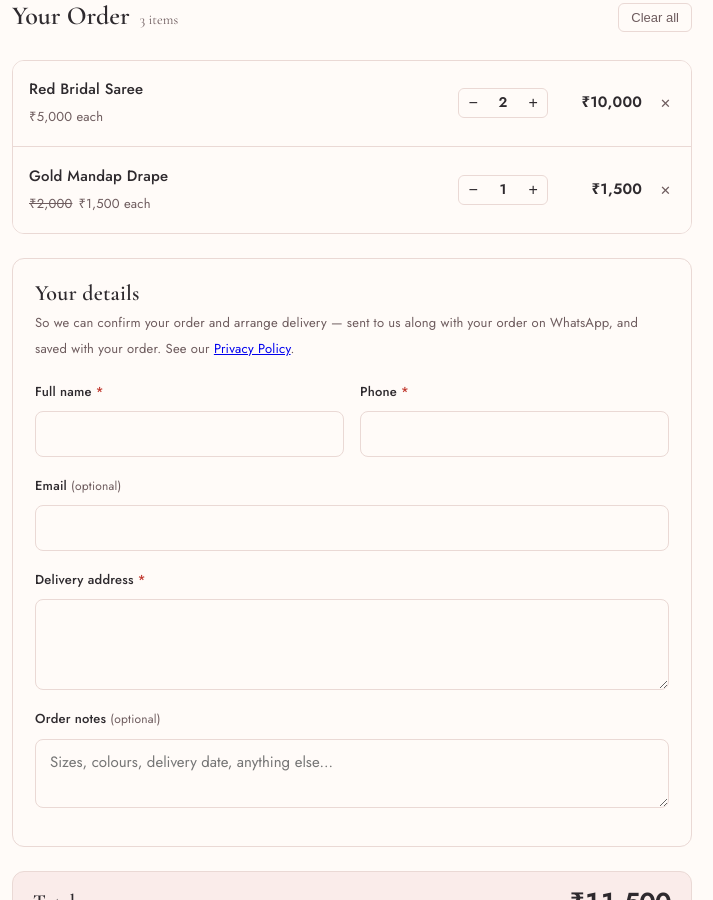
Test case: placing an order › does not open WhatsApp when an item has genuinely gone
The image size is (713, 900).
Expected: the text "Red Bridal Saree" is shown, [29,77,143,102]
Type "Asha Menon" into the field labelled "Full name *" at x=190, y=434, box [35,411,344,457]
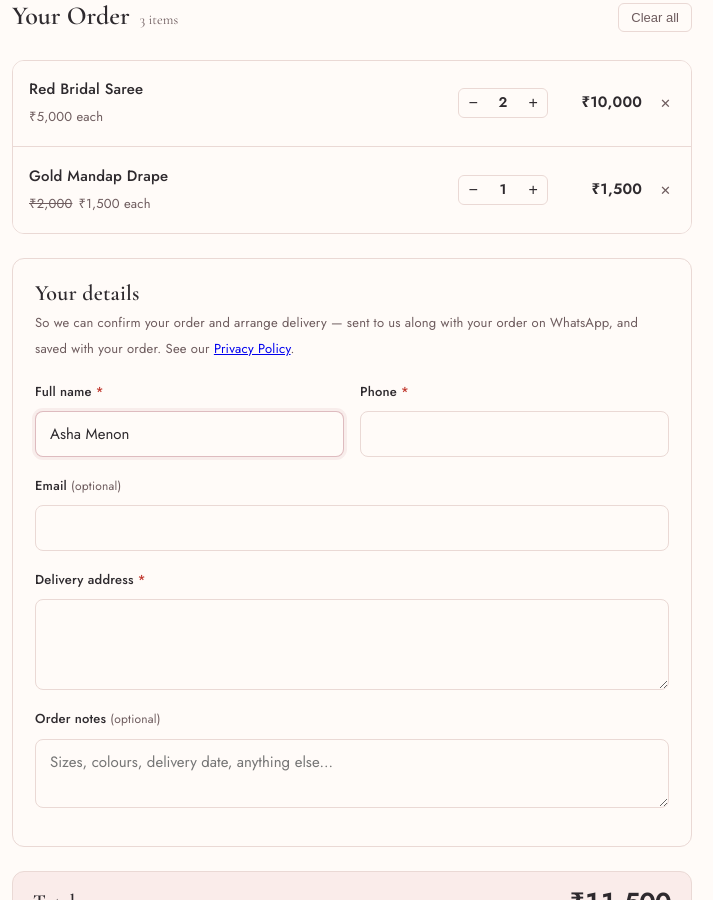
Type "9876543210" into the field labelled "Phone *" at x=514, y=434, box [360,411,669,457]
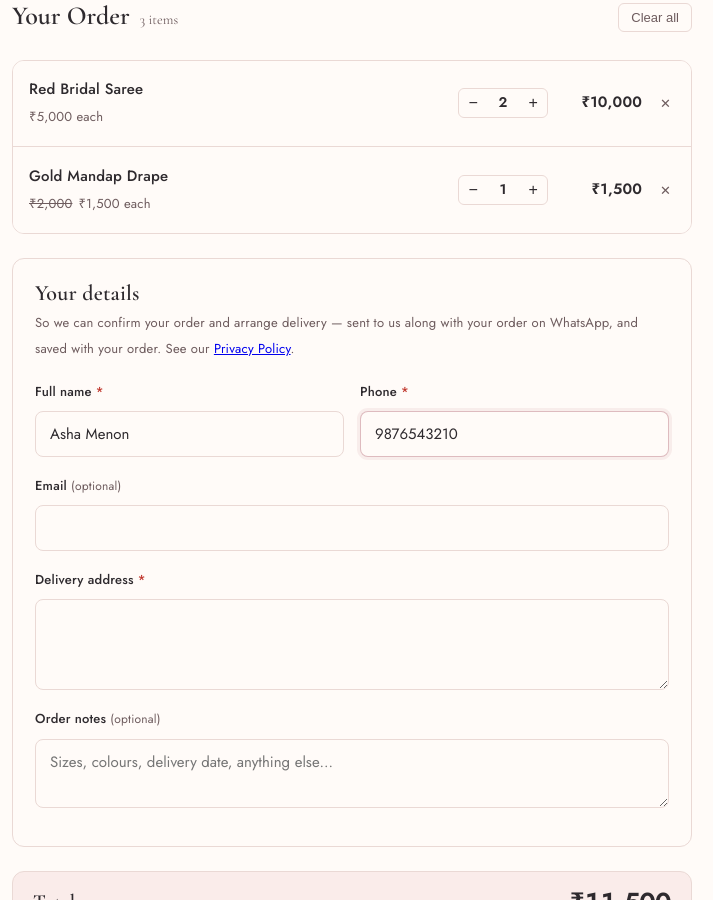
Type "12 Rose Street" into the text box labelled "Delivery address *" at x=352, y=644, box [35,599,669,690]
(page scrolled)
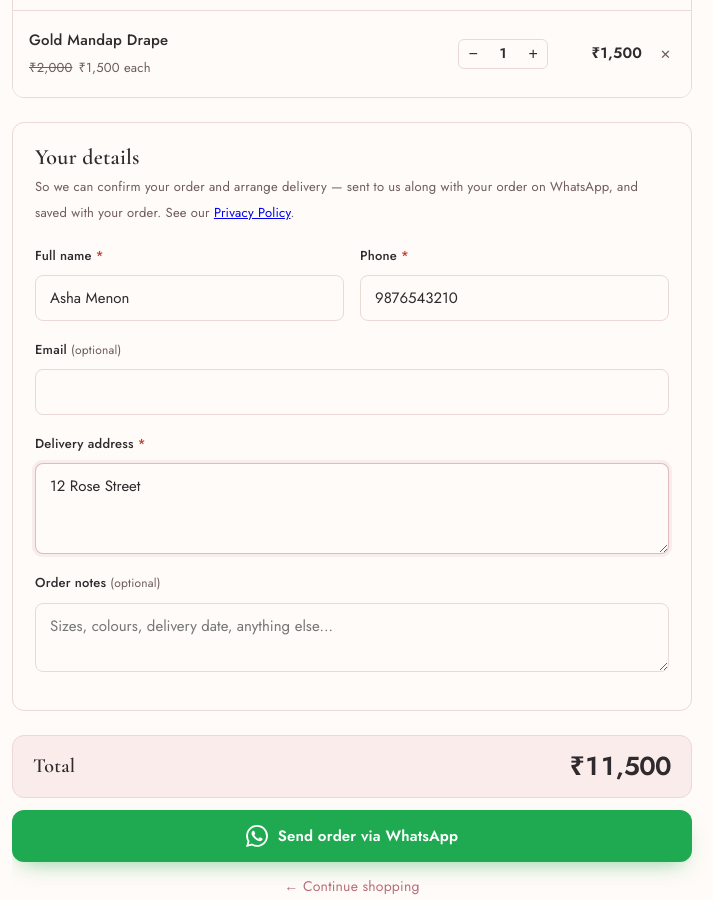
Click the button "Send order via WhatsApp" at x=352, y=836, box [12,810,692,862]
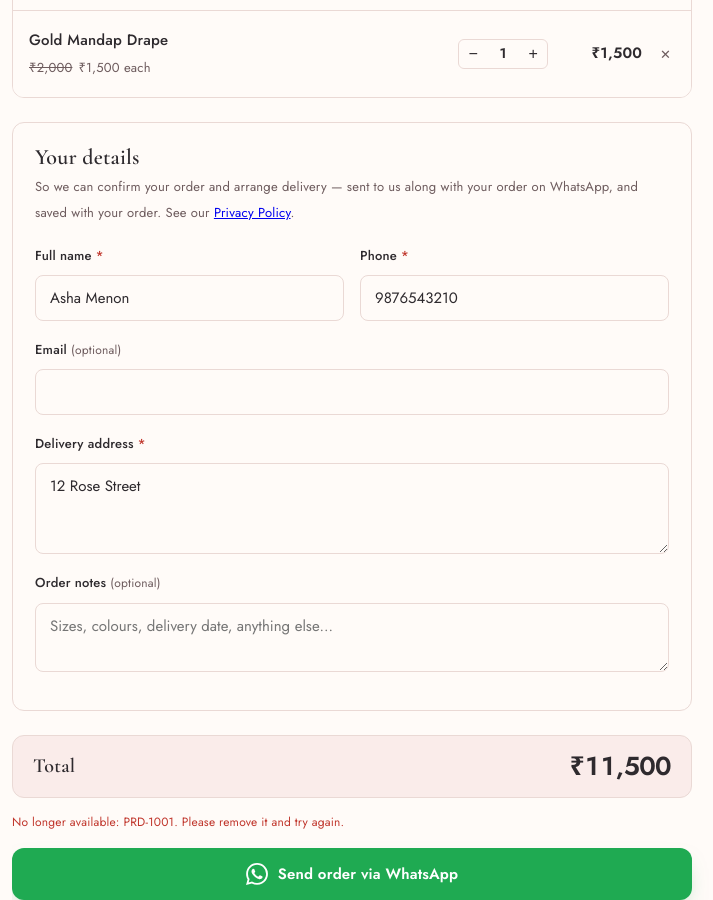
Result: the text "No longer available: PRD-1001" is shown at [12,813,344,831]
